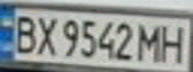2: (112, 19, 139, 62)
4: (97, 18, 118, 61)
5: (78, 16, 100, 60)
9: (57, 15, 81, 58)
B: (9, 11, 39, 55)
H: (157, 21, 190, 64)
M: (136, 20, 166, 63)
X: (33, 12, 60, 56)
